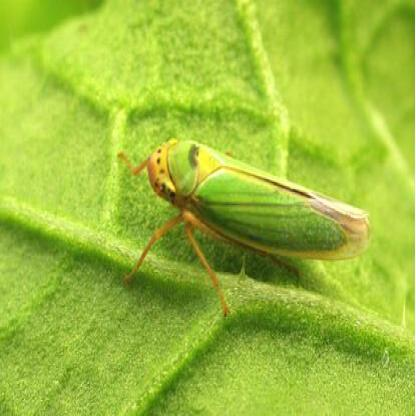Green-Leafhopper: (117, 133, 373, 323)
